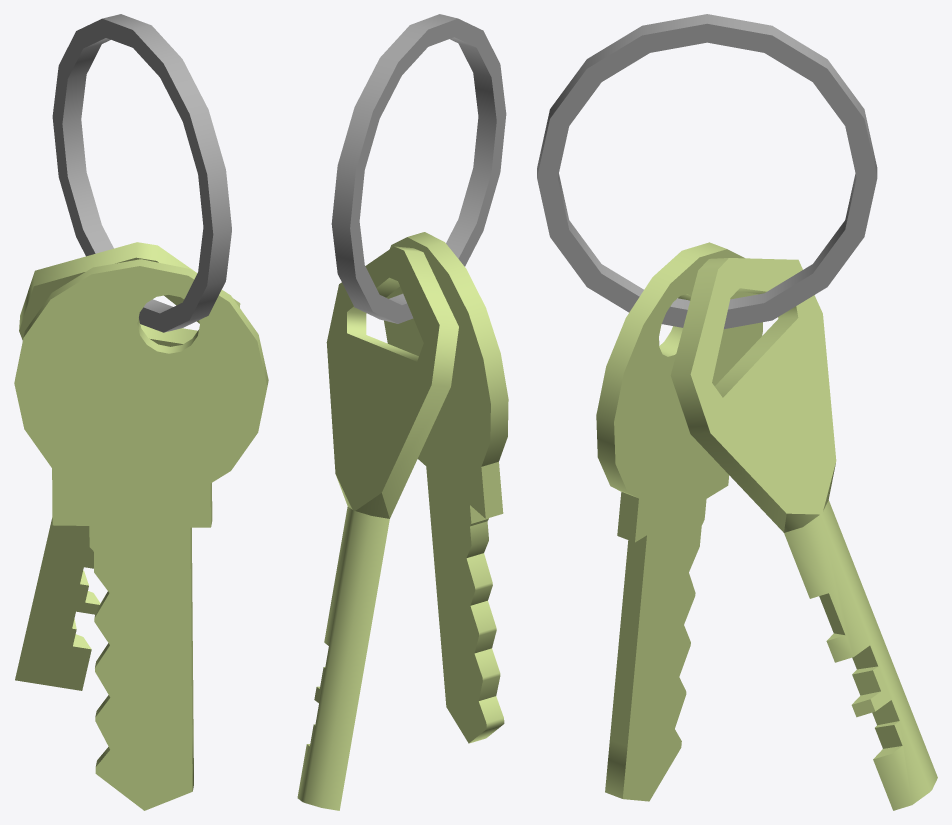
The model's file is Keys.fbx.
3 views of the same model, side by side, from view 1: azimuth 30°, elevation 25°; view 2: azimuth 150°, elevation 25°; view 3: azimuth 270°, elevation 25° (orthographic). The views are drawn at different scales.
Visible parts, largest first — view 1: Cylinder.003; view 2: Cylinder.003; view 3: Cylinder.003.
Part boxes in pixels (left/top/right/bottom): Cylinder.003: left=14, top=14, right=268, bottom=810; Cylinder.003: left=297, top=14, right=508, bottom=810; Cylinder.003: left=537, top=14, right=937, bottom=810.
Bounding box in the file's own units: 1.98 × 6.99 × 3.2.
